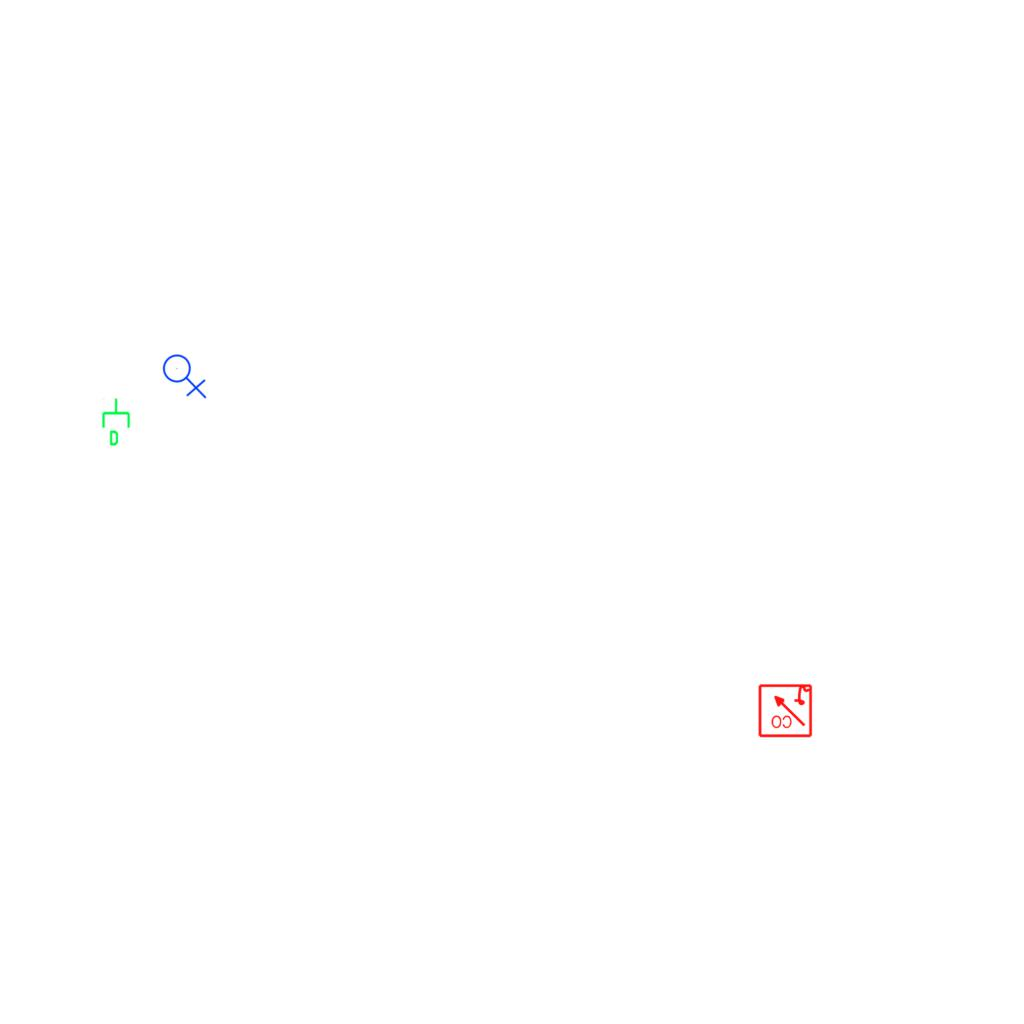Datenanschluss_einfach: (100, 397, 134, 447)
Elektroanschluss_allgemein_230V_Geraeteanschlussdose_230V: (162, 350, 209, 399)
ROA_Rauchmelder_optisch_mit_Signalgeber_(Sockelsirene): (757, 682, 813, 738)
